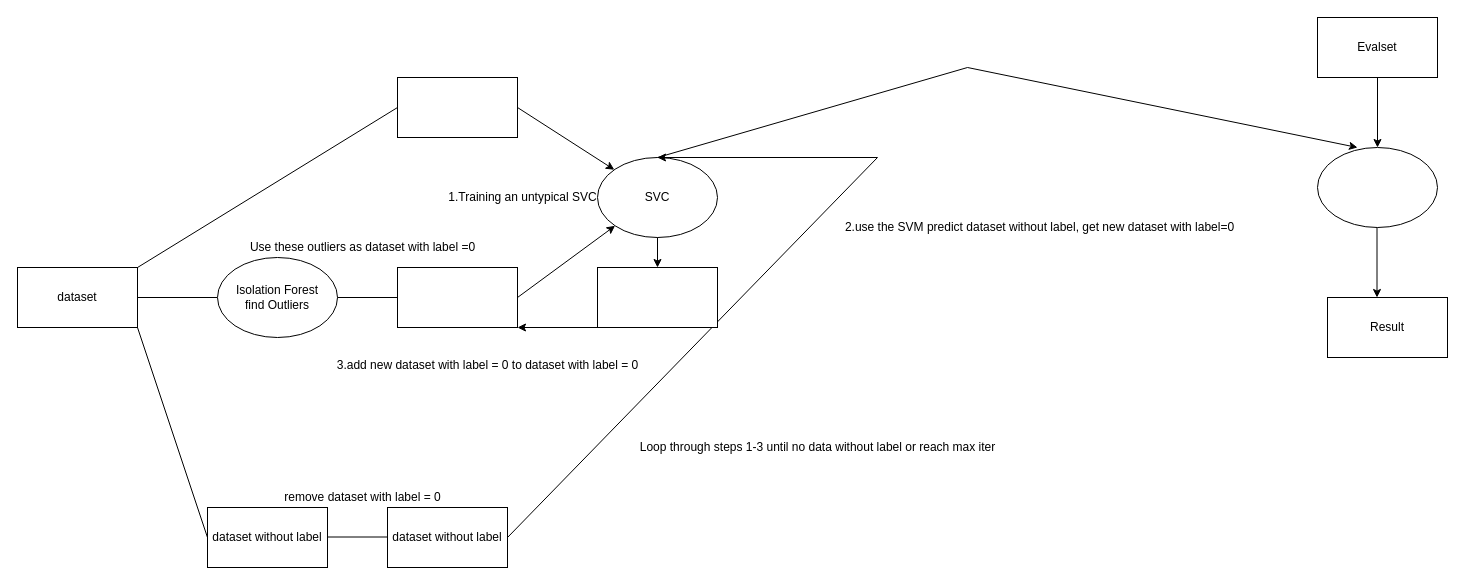
Image size: 1465x585. Some labels were removed from this diagram. Here are the shapes that lost their labels. From the top down, the box of each, then its label:
(396, 76, 518, 138): dataset with label = 1
(1316, 146, 1438, 228): Trained SVC
(396, 266, 518, 328): dataset with label = 0
(596, 266, 718, 328): New dataset with label = 0
